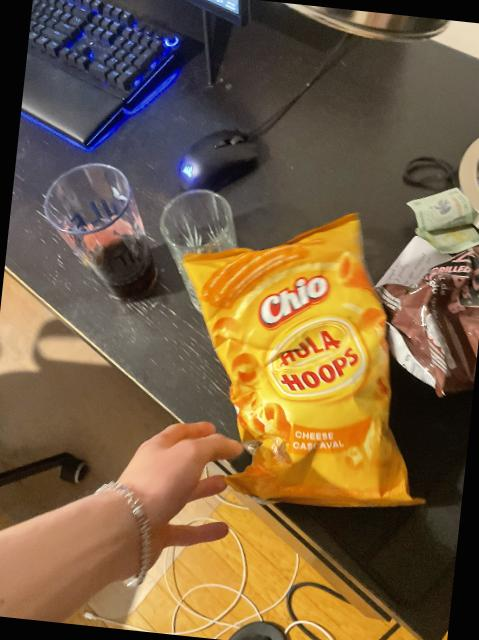Chio Hula Hoops Cheese 70g: (161, 196, 454, 512)
Lays Beef Grilled Ribs 125g: (359, 217, 479, 406)
